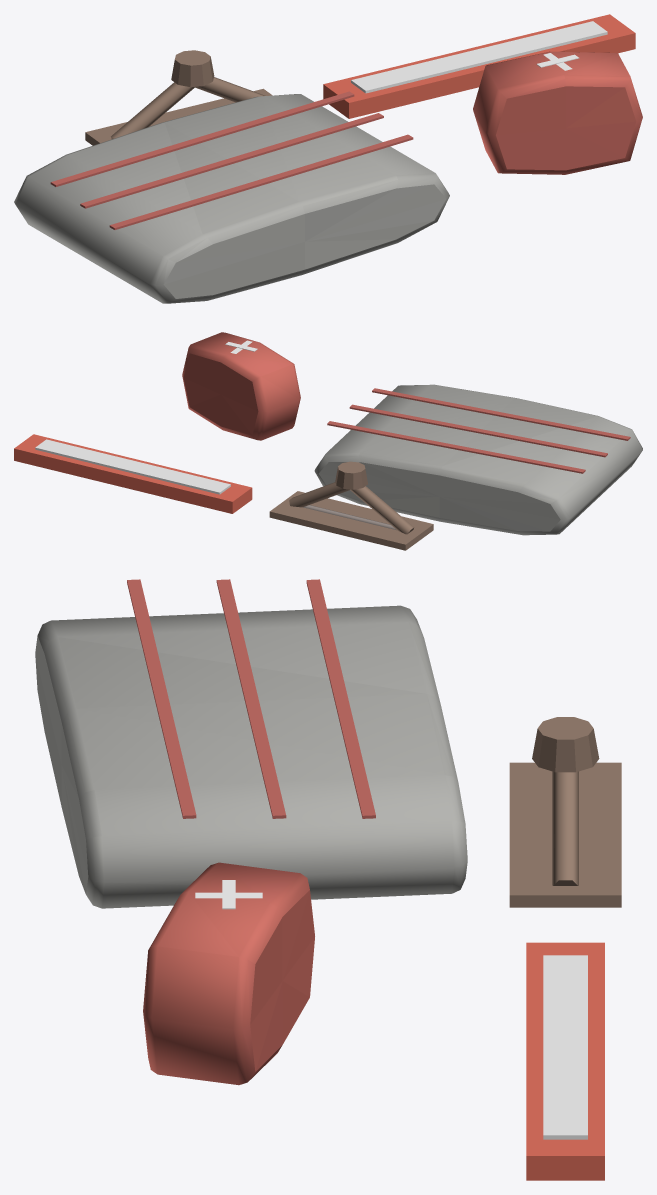
File: cruiser_boot_kit_a.glb
3 views of the same model, one above another, from view 1: azimuth 30°, elevation 25°; view 2: azimuth 150°, elevation 25°; view 3: azimuth 270°, elevation 25° (orthographic). The views are drawn at different scales.
Parts seen in each view (by area): view 1: body; view 2: body; view 3: body.
Boxes of the visible parts, left/top/right/bottom form: body: left=14, top=14, right=642, bottom=303; body: left=14, top=332, right=642, bottom=550; body: left=35, top=579, right=621, bottom=1180.
Size of the model in its own units: 1.04 by 0.1535 by 0.5228.
